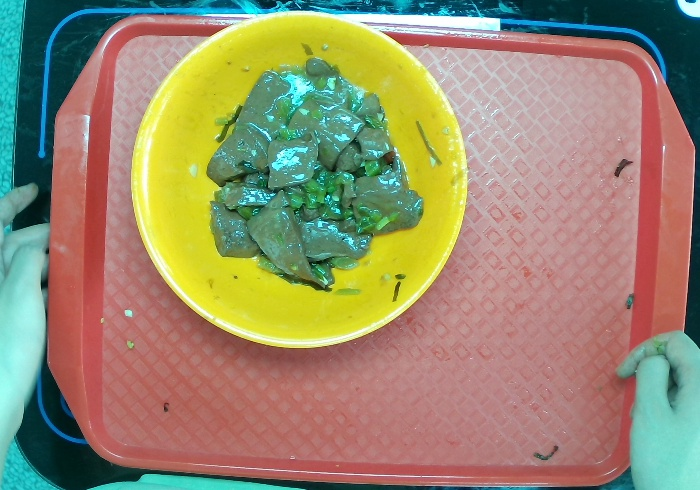YKMZ-Ju_Se_Tang_Wan: (124, 6, 474, 355)
